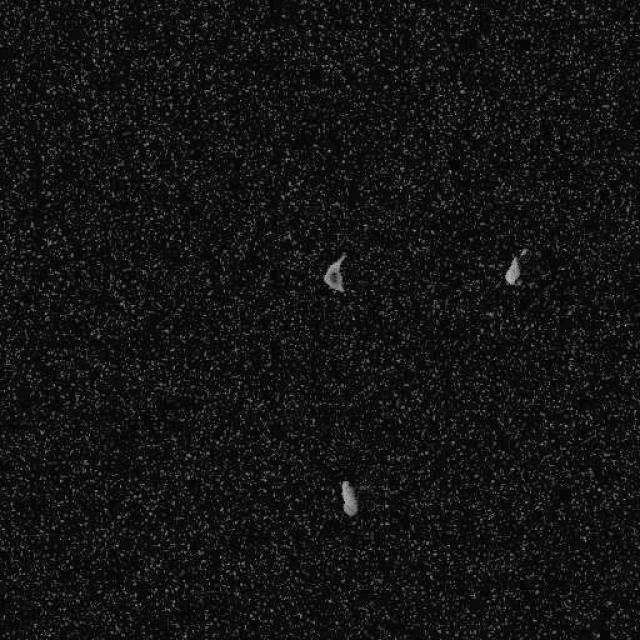D2: (322, 252, 347, 292), (339, 479, 359, 516), (504, 254, 521, 285)
